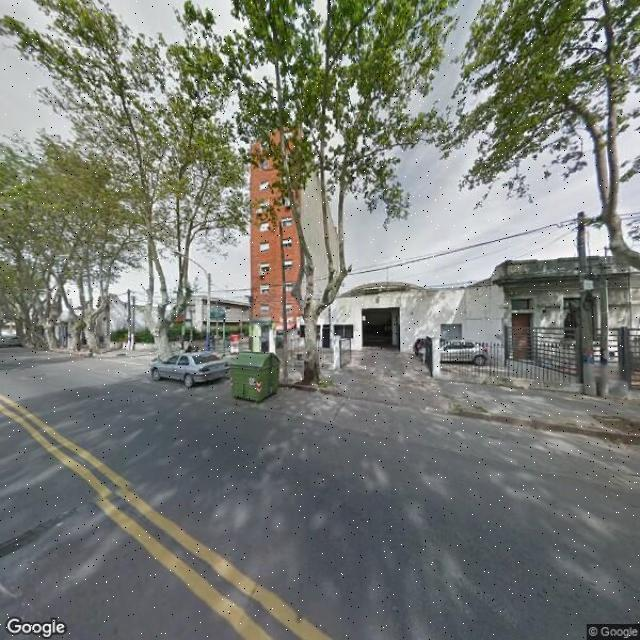garbage container: (227, 349, 288, 407)
